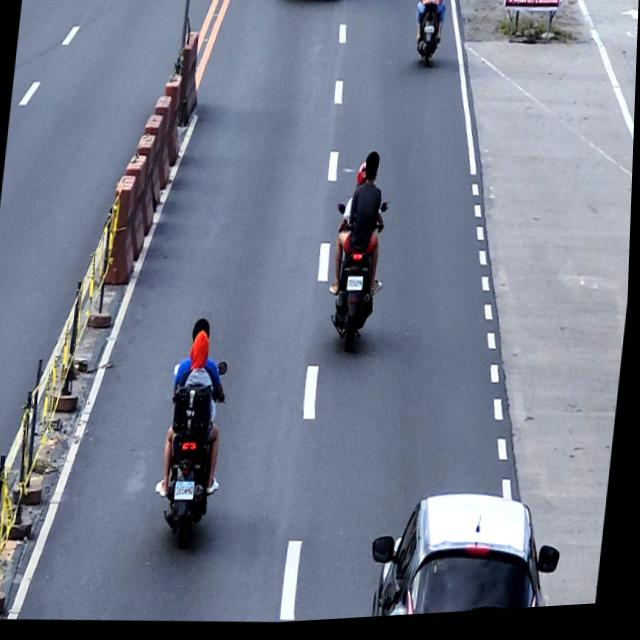Car: (368, 487, 571, 622)
License-Plate: (176, 479, 199, 504), (347, 279, 366, 296), (424, 29, 436, 39)
Motorcycle: (157, 359, 234, 554), (324, 199, 392, 359), (413, 6, 444, 73)
